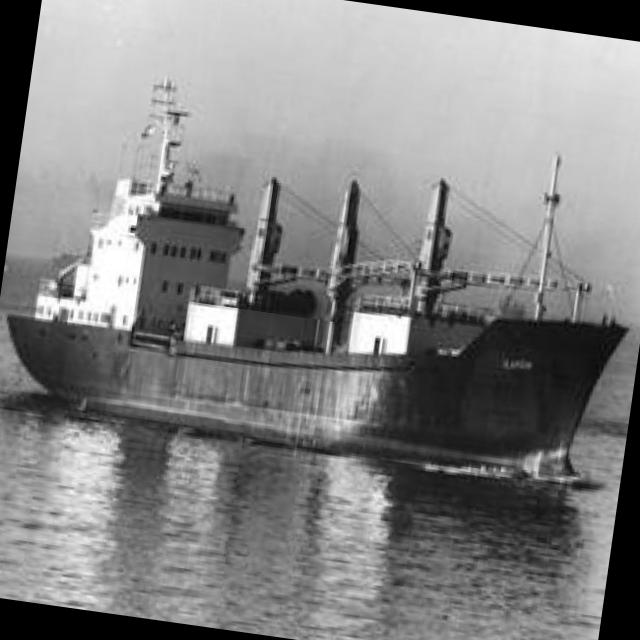boat: (0, 121, 637, 504)
